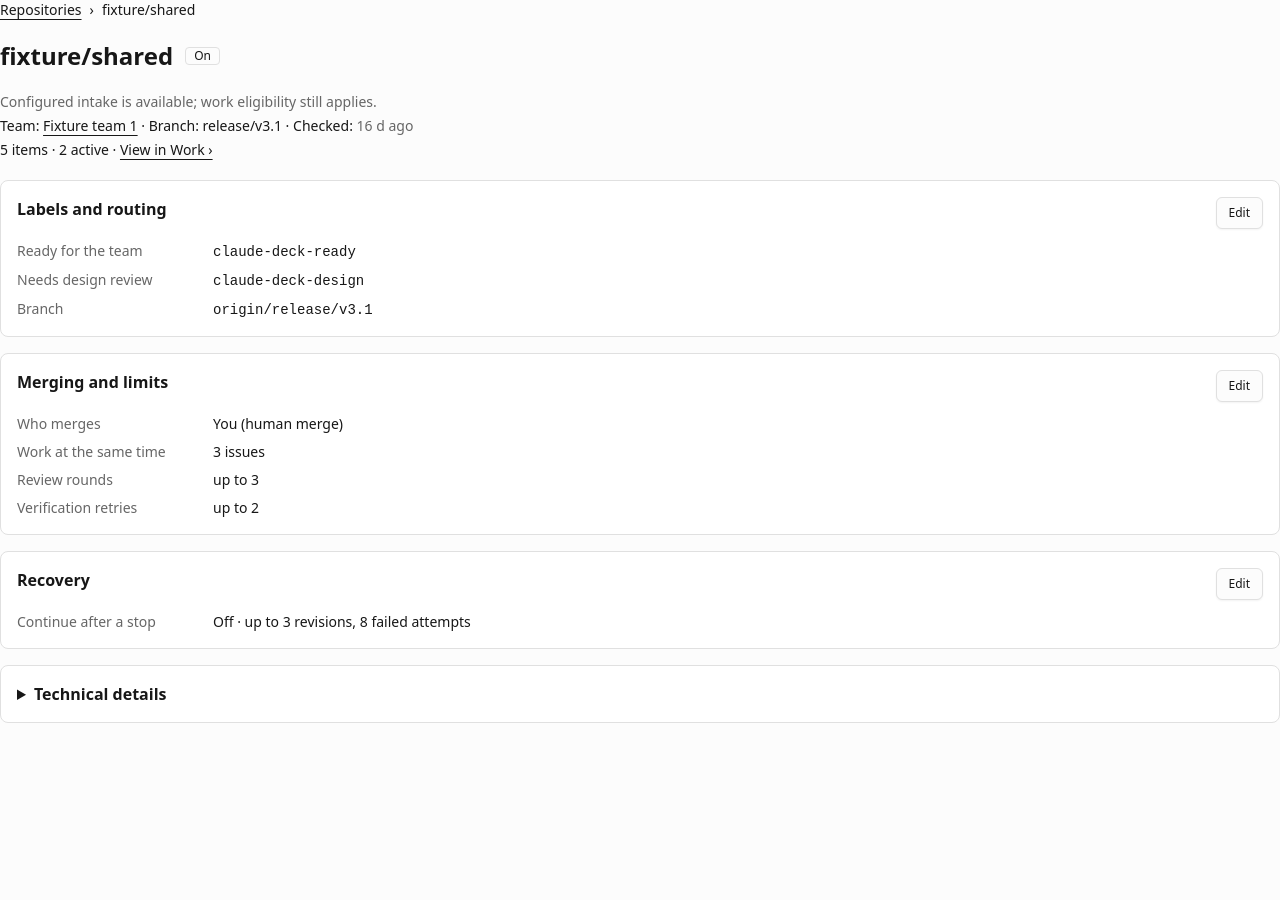
it: Repository page › opens the edit dialog without asking for the Director key until Save
The image size is (1280, 900).
Click the button with aria-label "Edit labels and routing for fixture/shared" at (1239, 213), box [1216,197,1263,229]
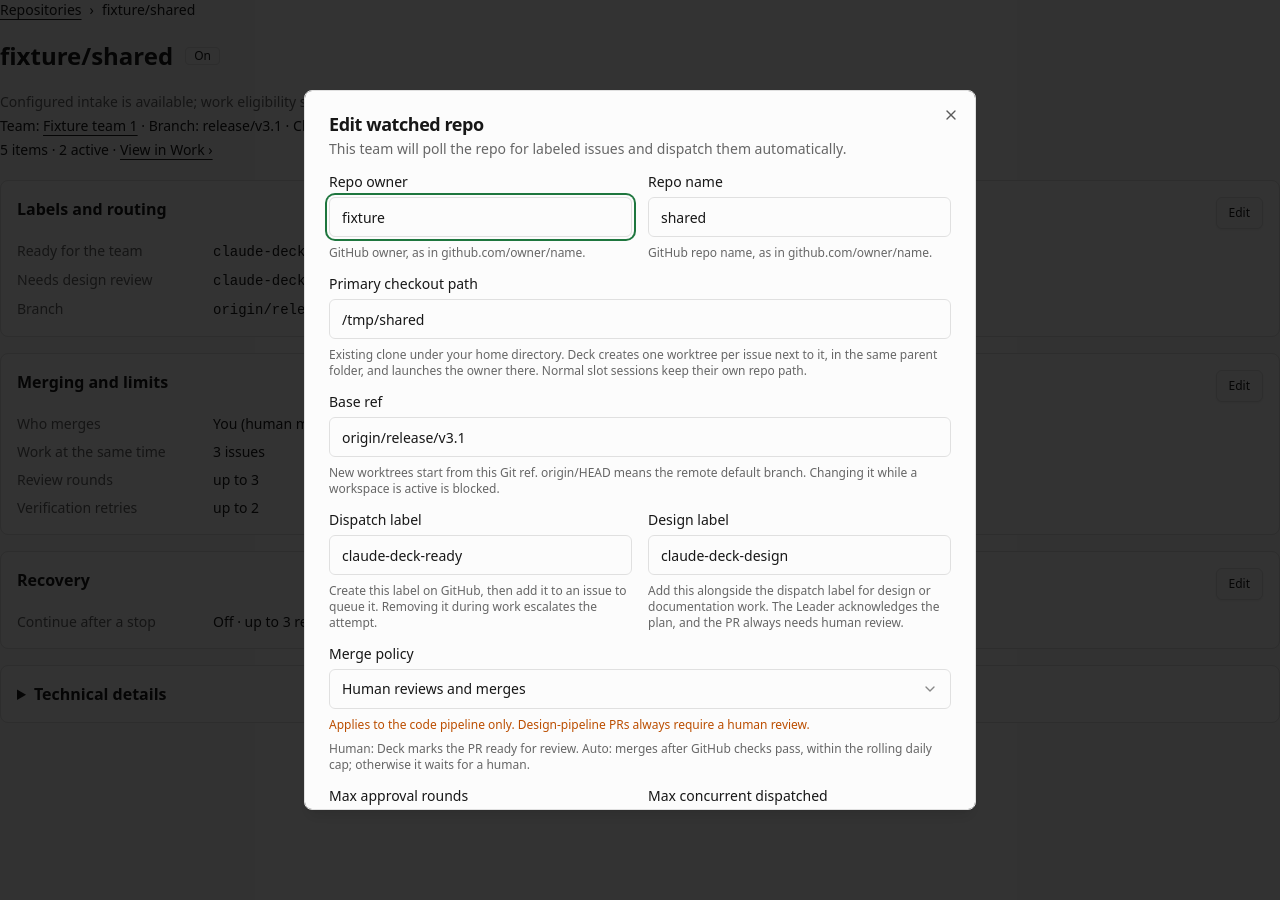
Now the dialog is shown, box [304,90,976,810]
